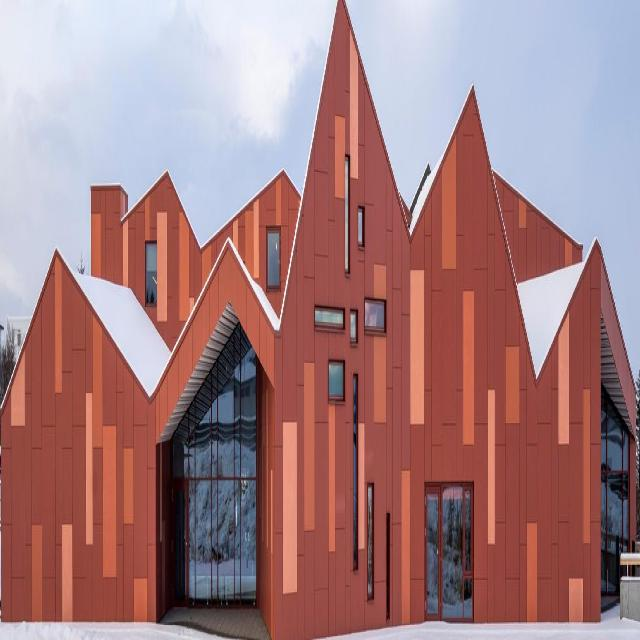door: (424, 479, 473, 624), (171, 476, 189, 606)
wall: (0, 0, 637, 639)
windows: (171, 322, 257, 609), (600, 376, 631, 615), (266, 231, 280, 291), (353, 378, 357, 566), (145, 242, 157, 304), (364, 301, 385, 328), (328, 364, 344, 398), (345, 159, 349, 274), (368, 486, 372, 596), (315, 311, 345, 324), (350, 312, 357, 341), (358, 212, 363, 246)
